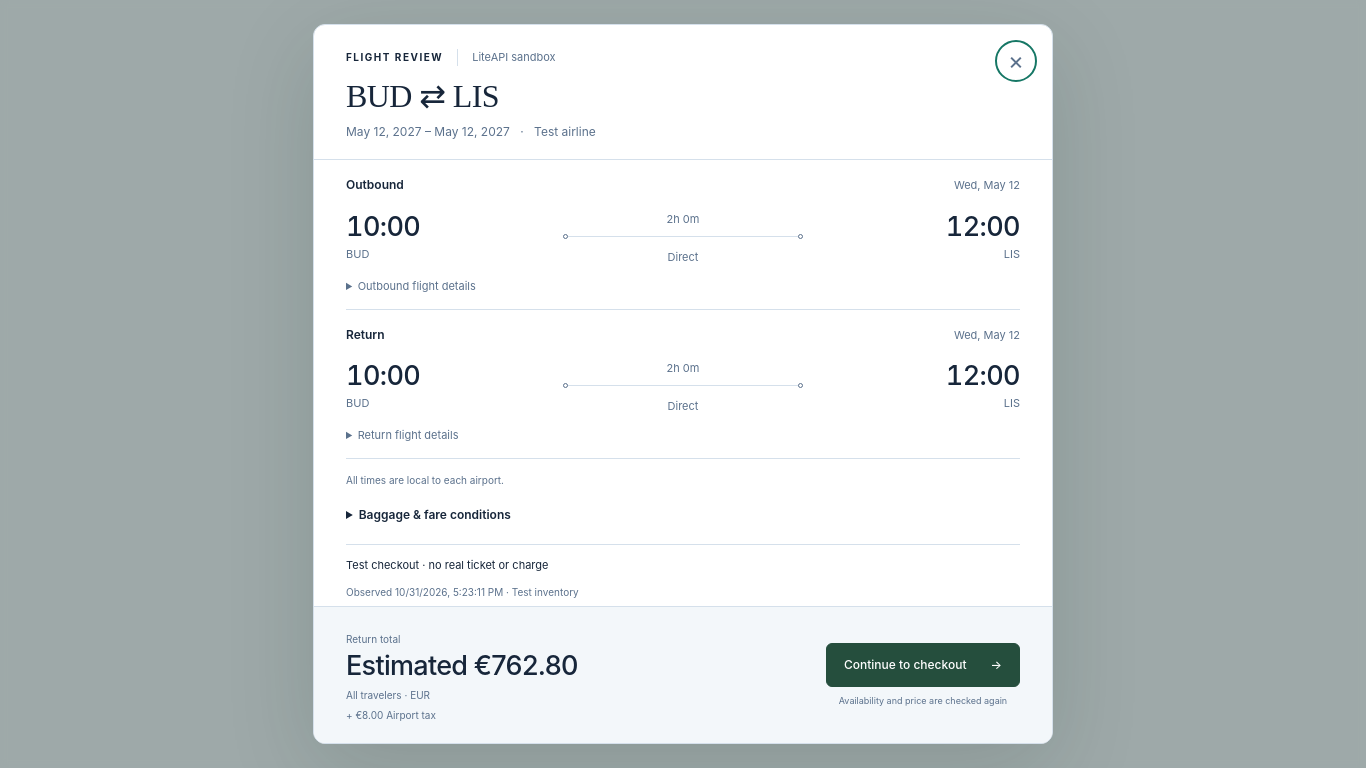
Test: itinerary offers direct checkout and optional fare details without implicit actions
This screenshot has width=1366, height=768.
Expected: the heading "Outbound" is shown, [346,177,404,194]
Expected: the heading "Return" is shown, [346,327,385,343]
Click the heading "Baggage & fare conditions".
click(428, 515)  # box [346,506,511,524]
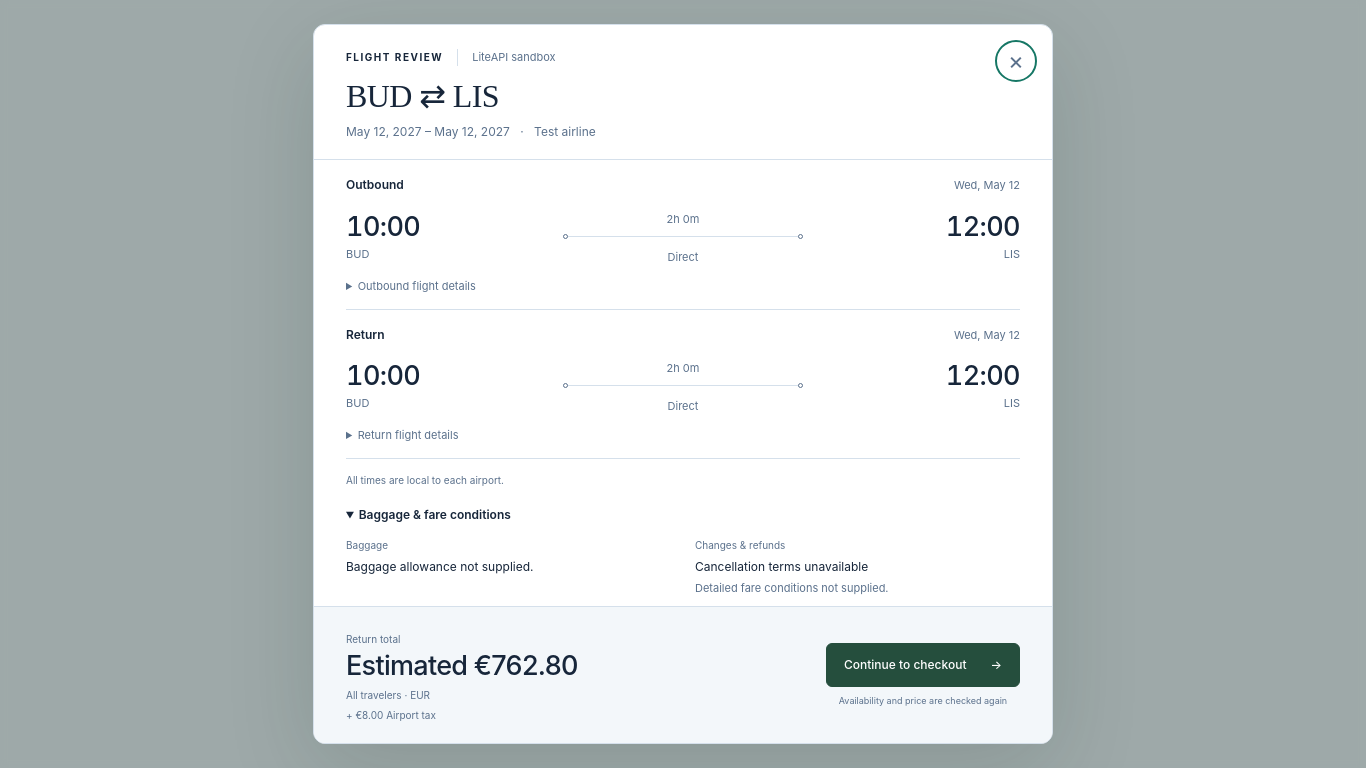
Expected: the text "Estimated €762.80" is shown, [346,648,578,683]
Result: the text "Baggage allowance not supplied." is shown at [346,559,534,574]
Result: the text "Cancellation terms unavailable" is shown at [695,559,868,574]
